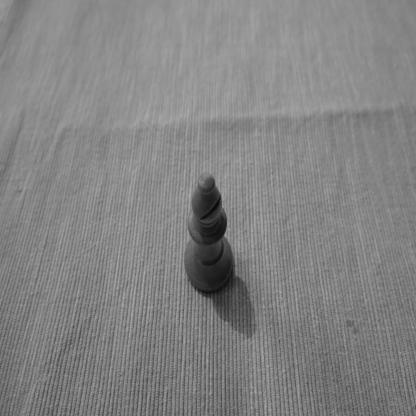white-bishop: (183, 171, 234, 294)
